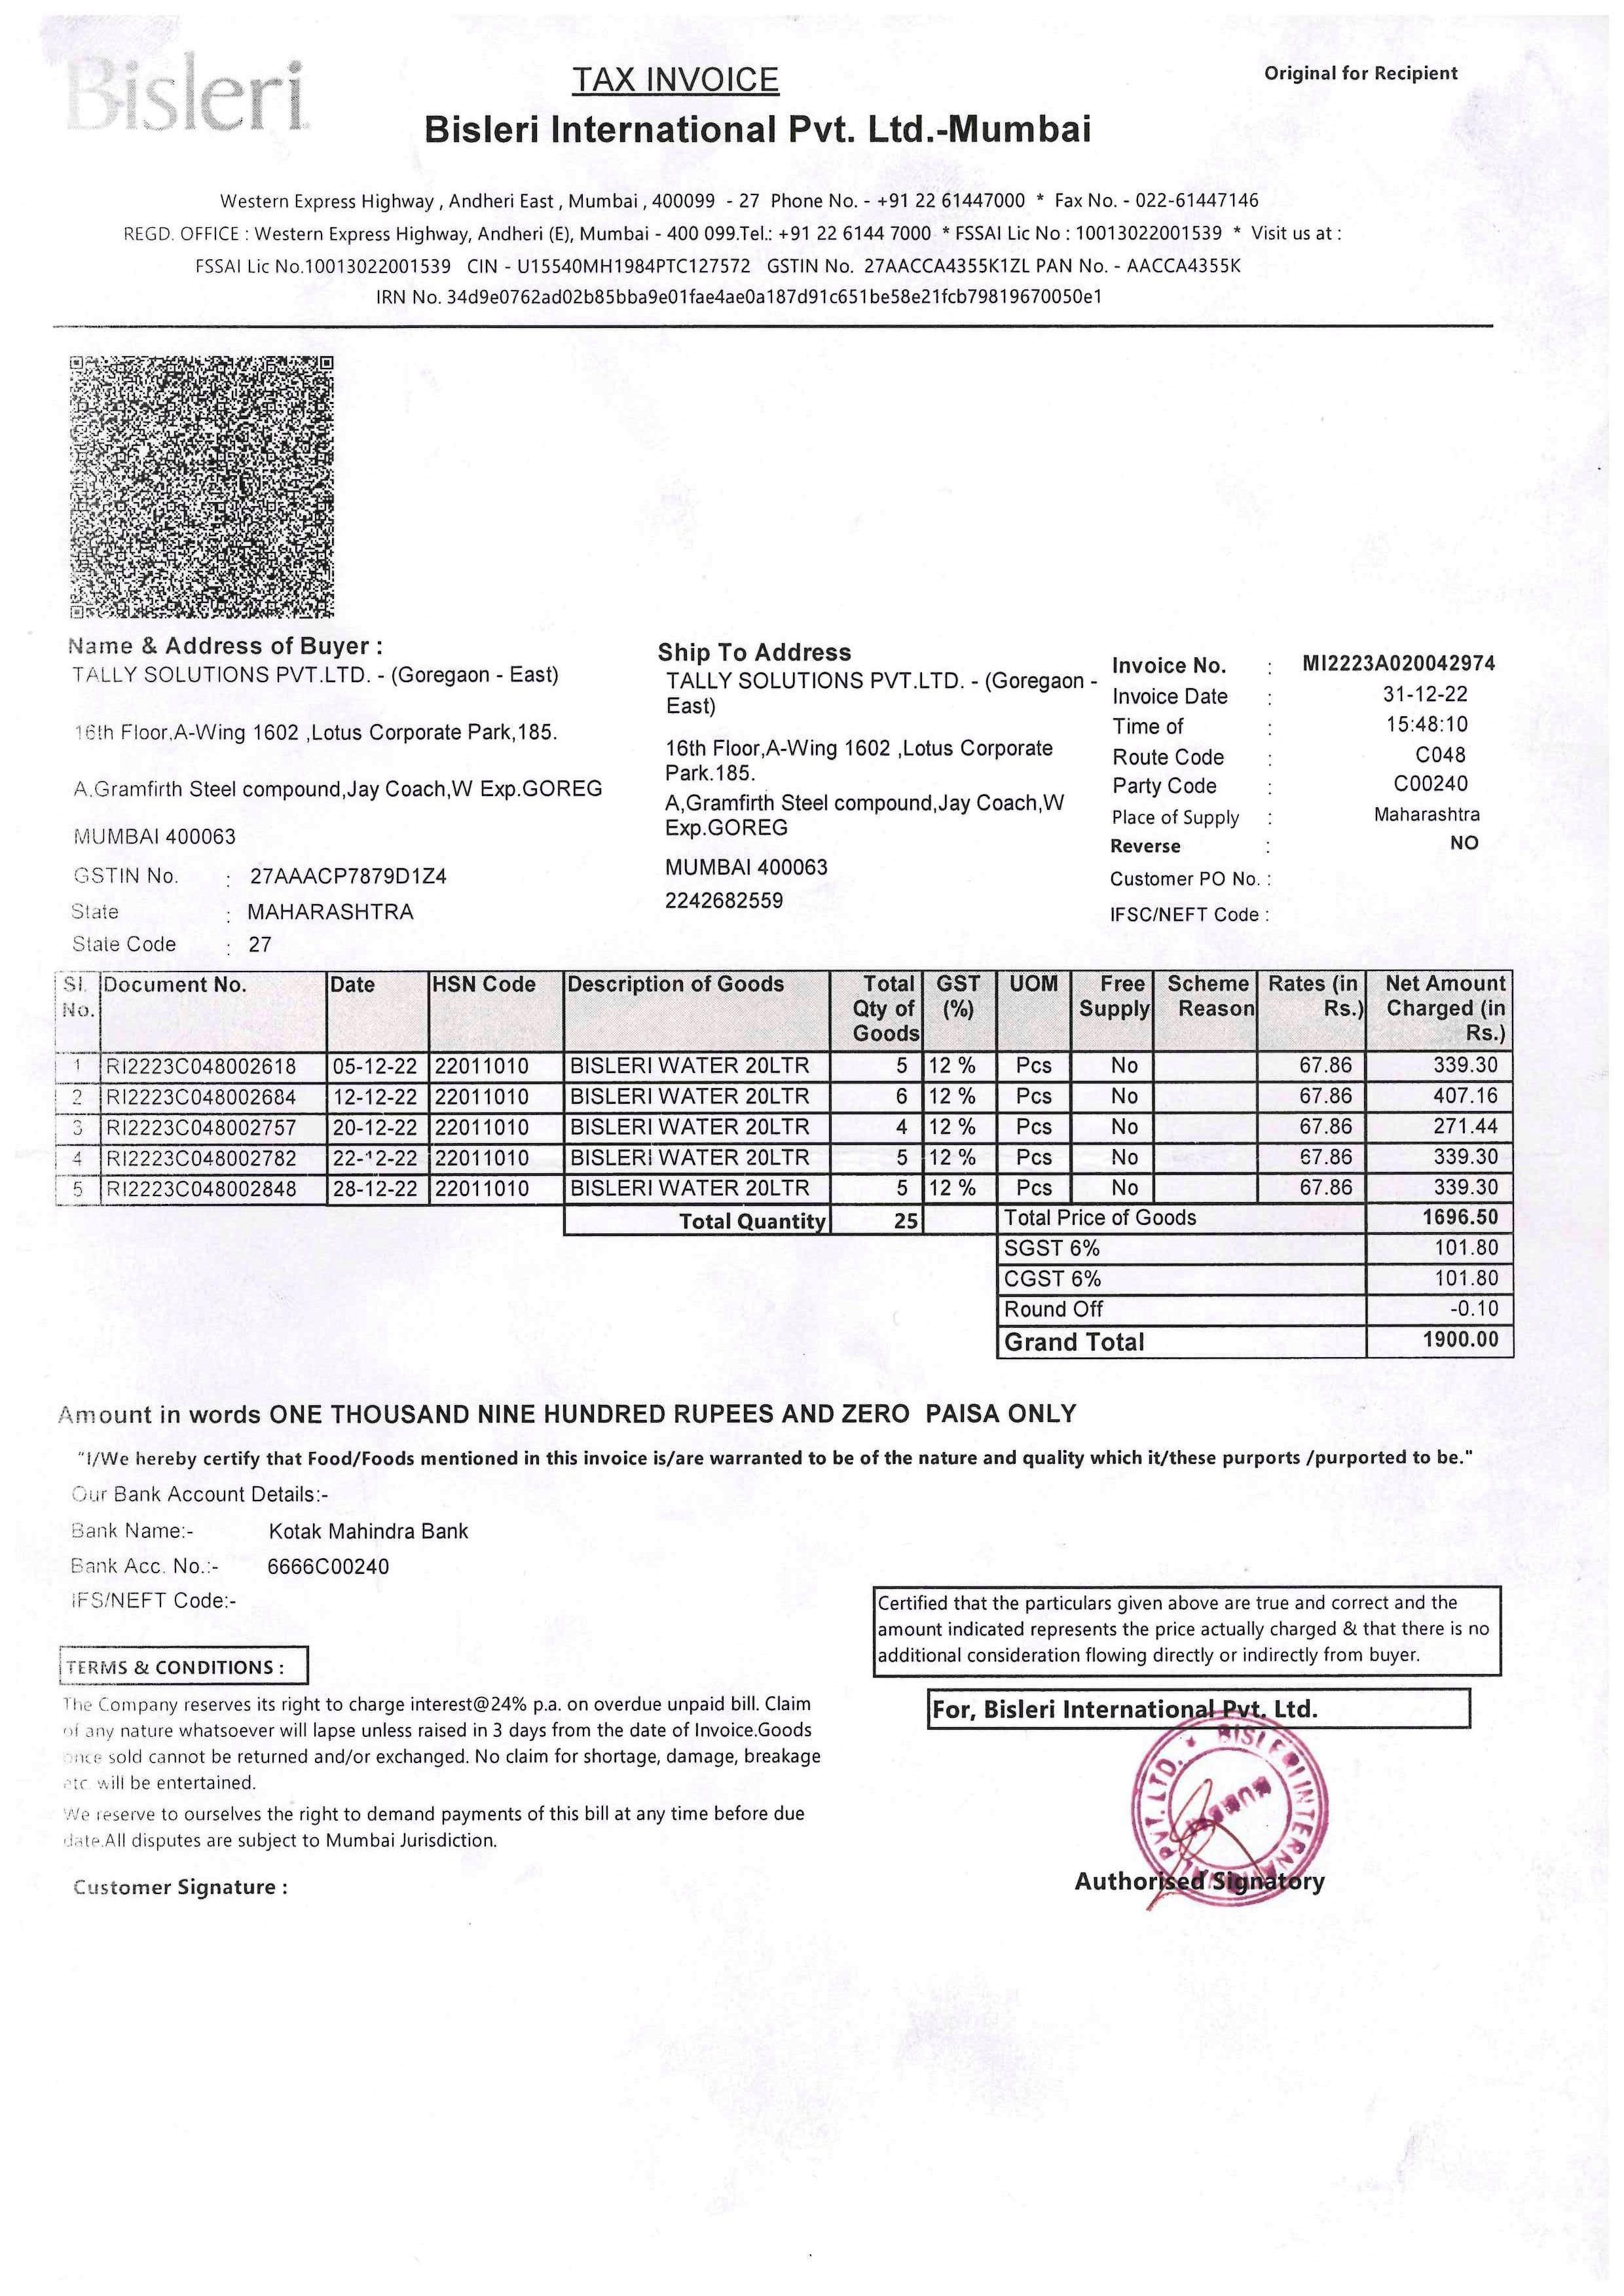InvoiceDate: (1366, 685, 1517, 715)
InvoiceNumber: (1290, 643, 1524, 685)
TotalAmount: (1418, 1330, 1520, 1356)
